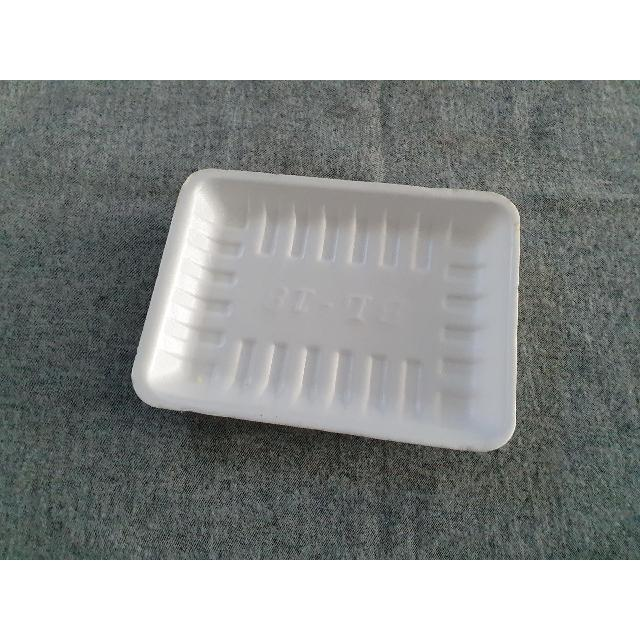Plastico descartable: (130, 169, 522, 455)
